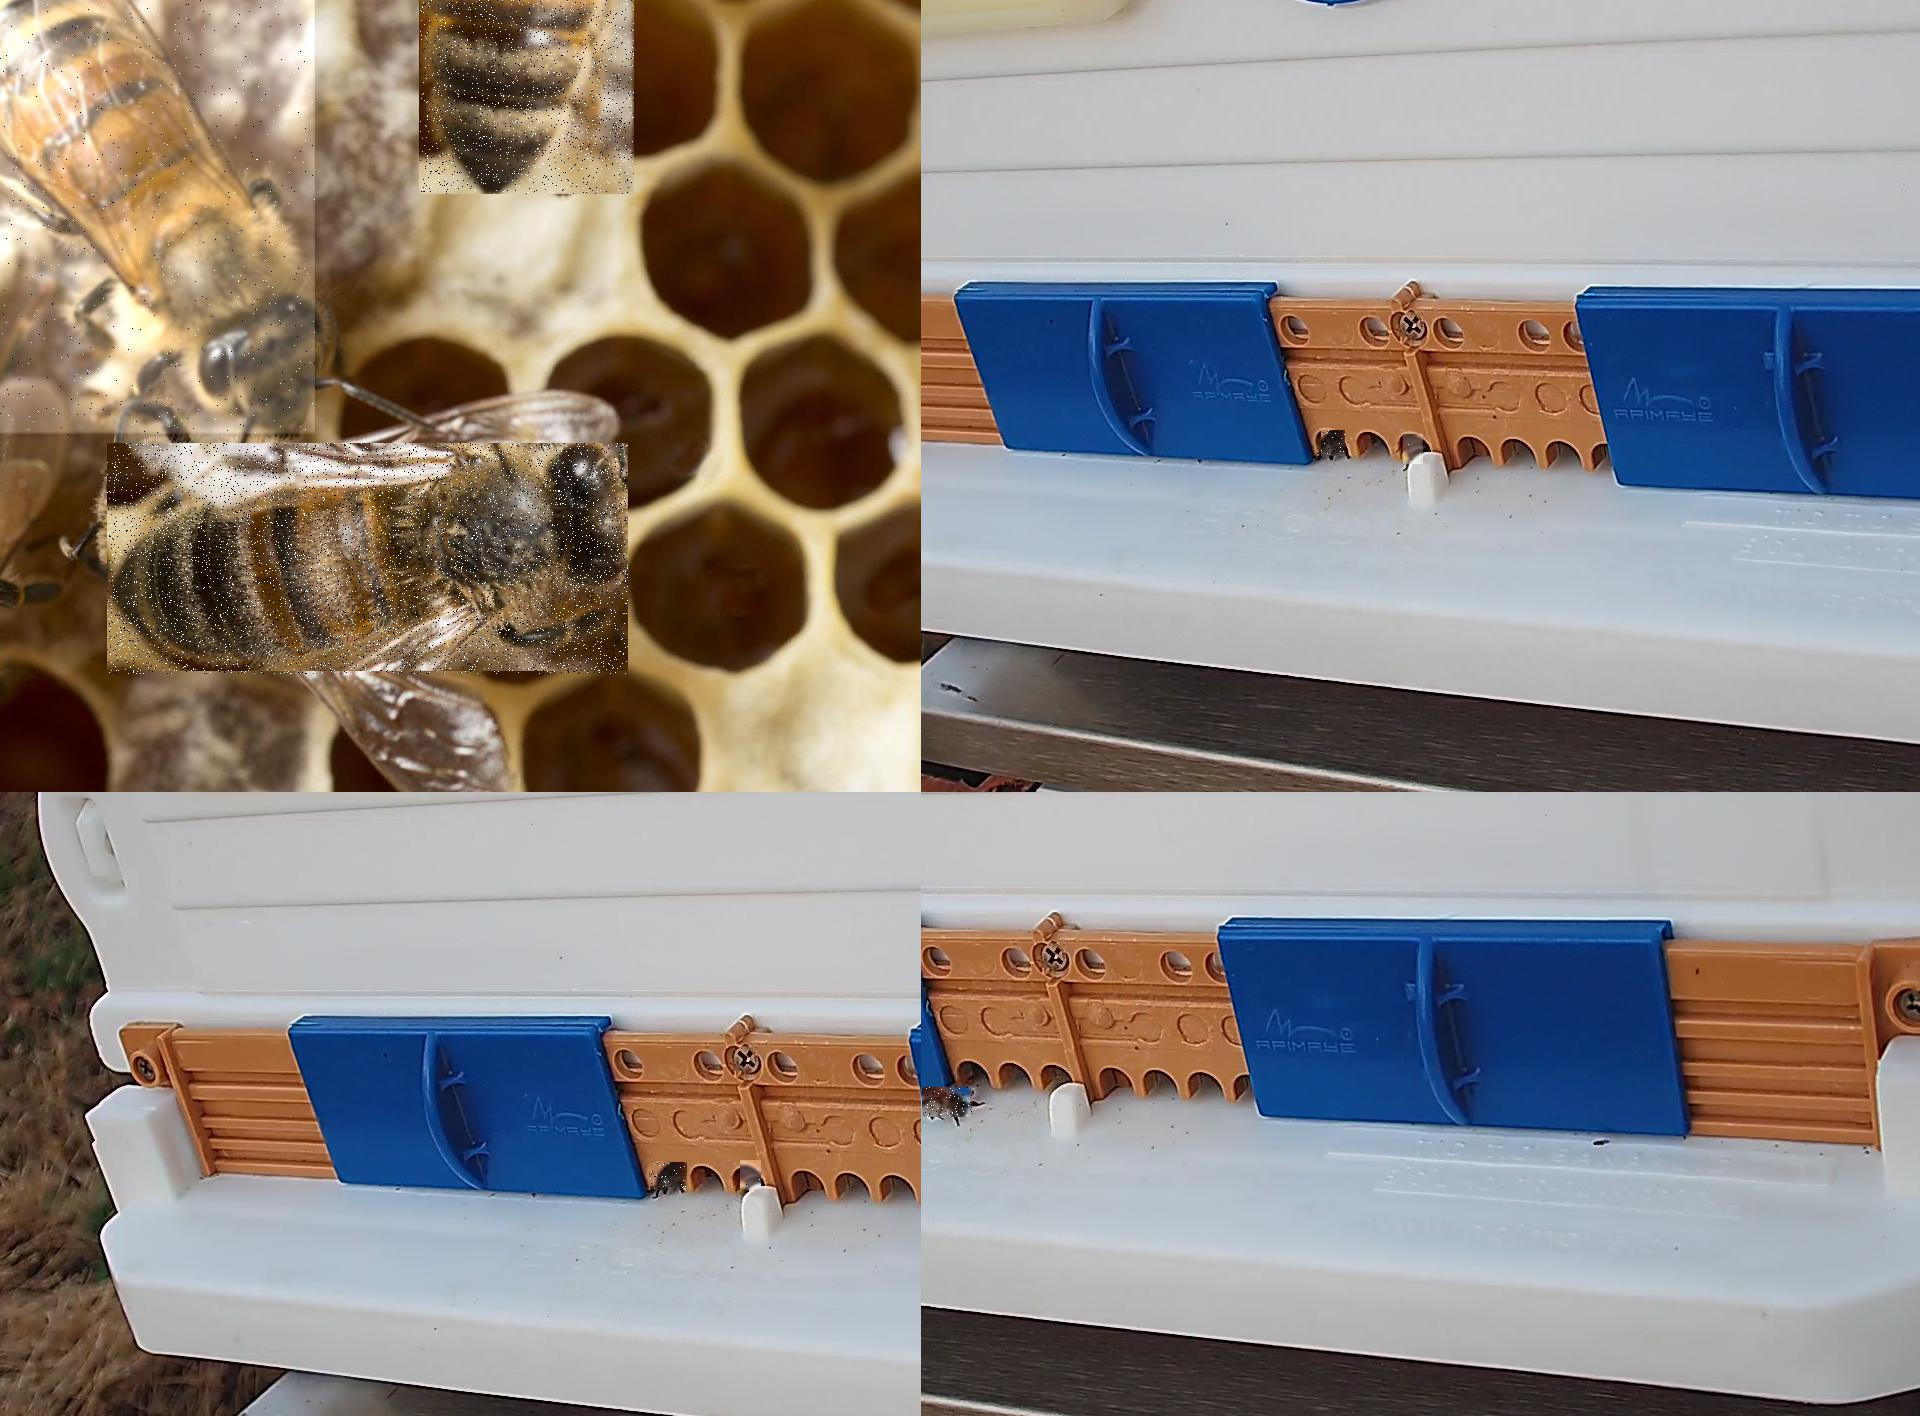bee: (0, 0, 318, 437), (107, 444, 629, 675), (420, 0, 637, 195), (923, 1087, 975, 1118), (650, 1163, 689, 1191), (1321, 431, 1346, 459)
pollenbee: (1403, 434, 1424, 465), (741, 1161, 762, 1192)
